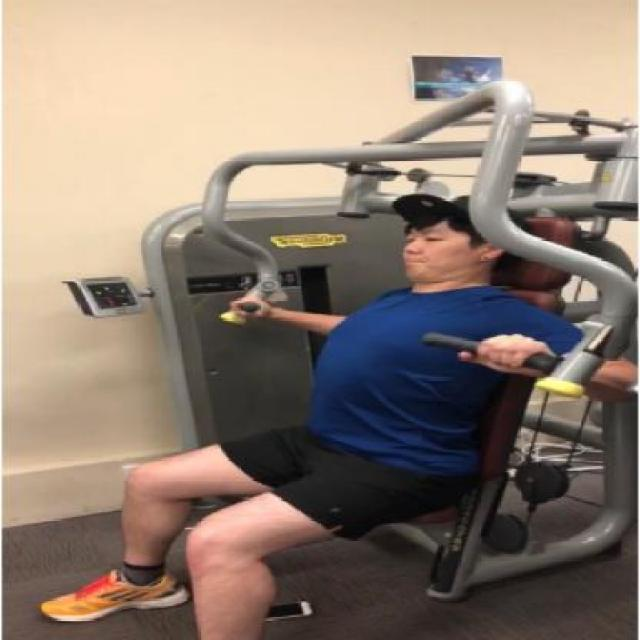Chest Press machine: (40, 72, 640, 640)
